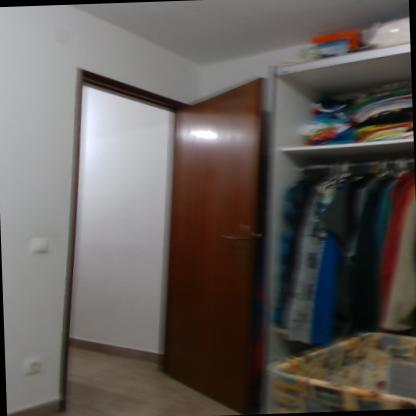open: (54, 62, 285, 412)
